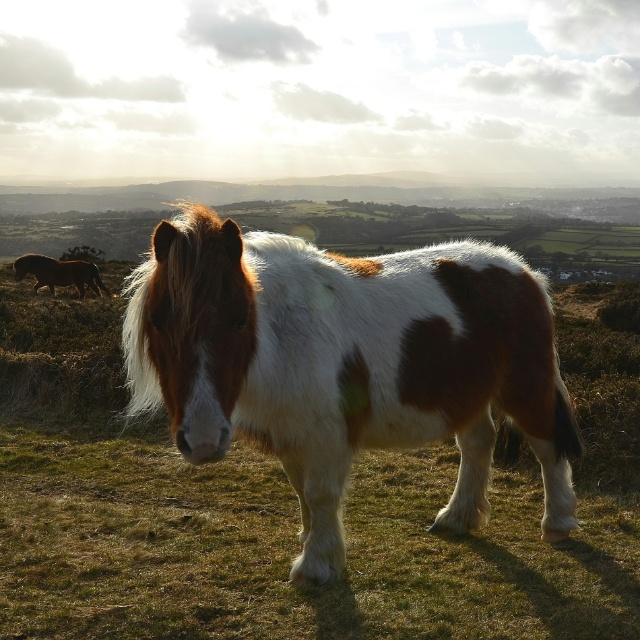Horse: (119, 199, 587, 582)
